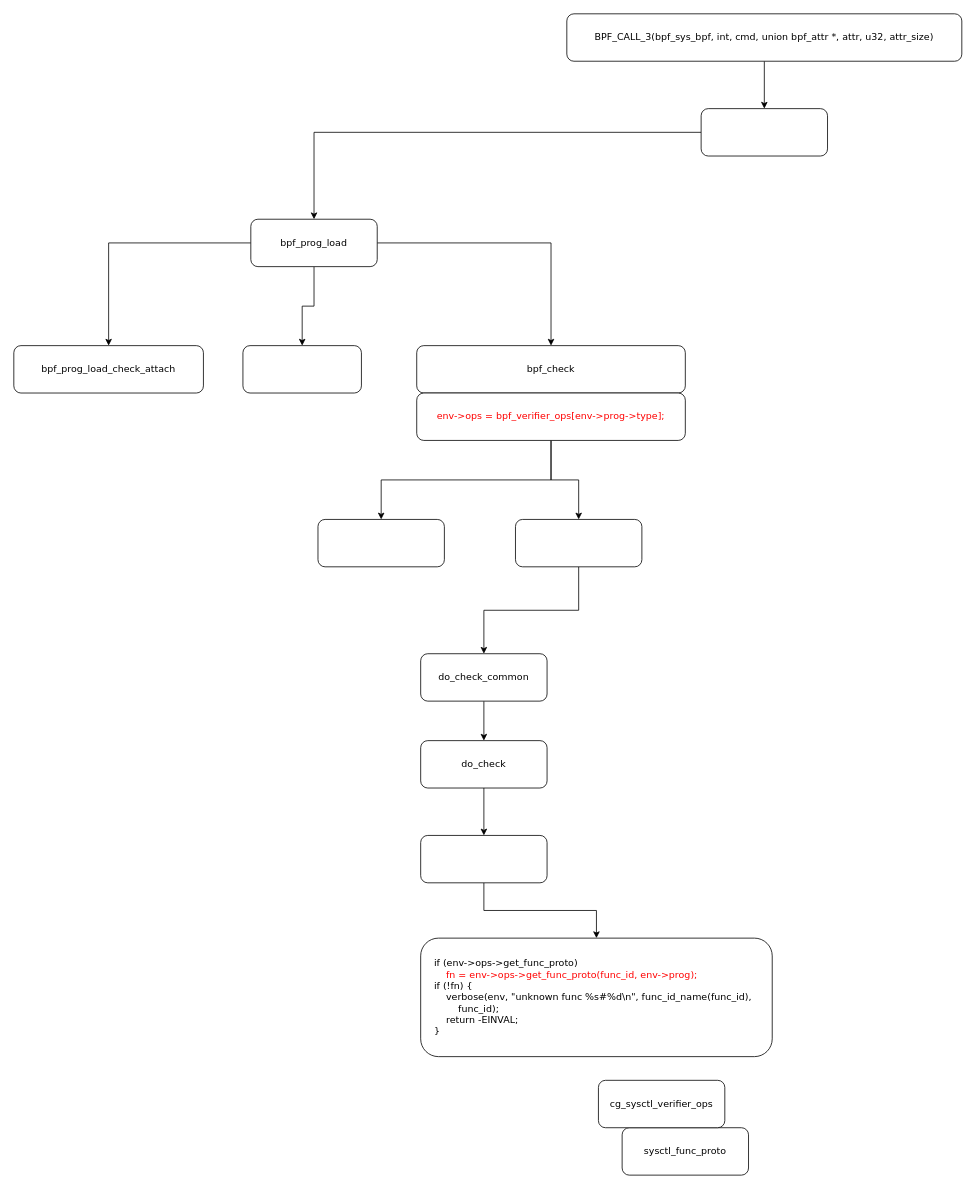
Image size: 976x1189. Some labels were removed from this diagram. The shapes that lost their labels are listed below. From the top down, each one's box as (x1, y1, x2, y2) in pixels, then its label:
(700, 108, 828, 156): __sys_bpf
(242, 345, 361, 393): bpf_prog_alloc
(317, 519, 444, 567): do_check_subprogs
(515, 519, 642, 567): do_check_main
(420, 835, 547, 883): check_helper_call
